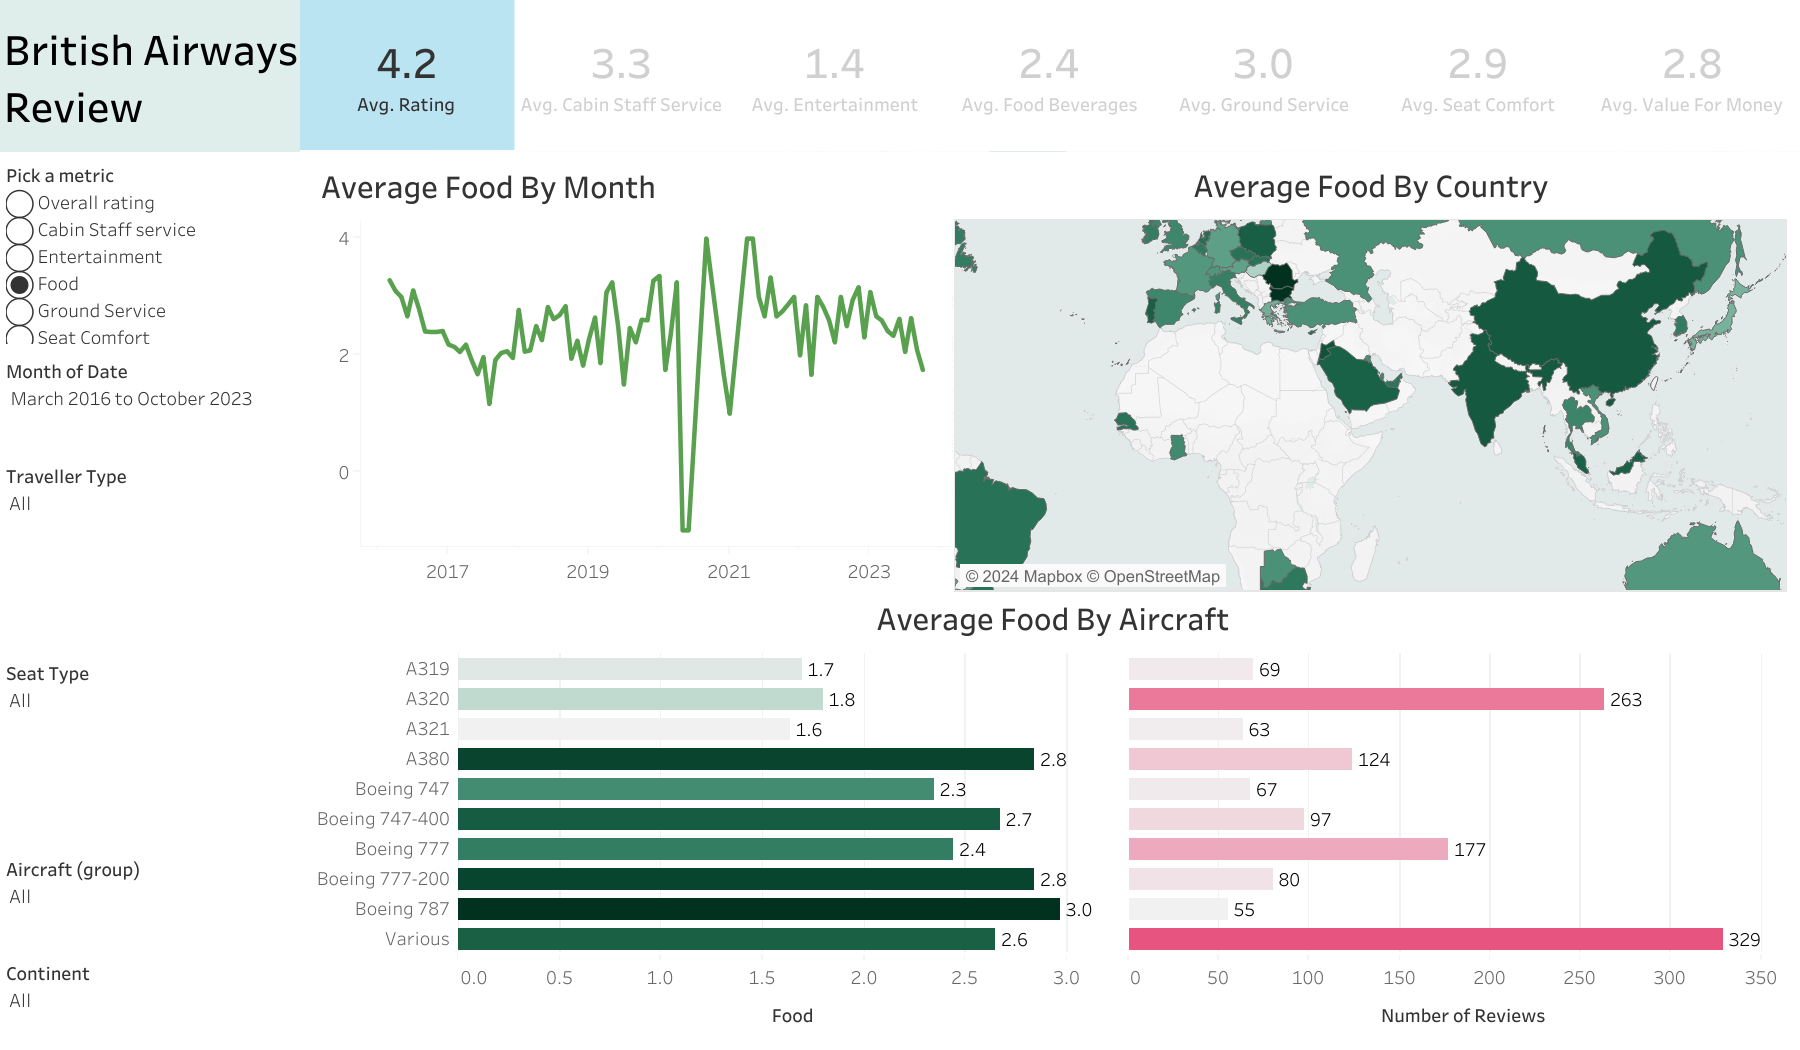

The page's visual inventory and layout, read from the dashboard file:
{"tool":"tableau","page":{"name":"Dashboard 1","canvas":[1200,700],"ordinal":0},"visuals":[{"type":"text","box":[0,0,205,101]},{"type":"worksheet","title":"summary","mark":"Automatic","box":[200,0,1000,100]},{"type":"parameter","param":"[Parameters].[Parameter 1]","box":[0,102,200,131]},{"type":"worksheet","title":"Map","mark":"Automatic","box":[636,103,556,292]},{"type":"worksheet","title":"month","mark":"Automatic","rows":["Calculation_1055534862237753"],"cols":["date"],"box":[210,104,424,290]},{"type":"filter","title":"Map","param":"[federated.0tti8sv0quxe9v17orzv80lkn9sl].[tmn:date:qk]","box":[0,233,200,70]},{"type":"filter","title":"Map","param":"[federated.0tti8sv0quxe9v17orzv80lkn9sl].[none:traveller_type:nk]","box":[0,303,200,131]},{"type":"worksheet","title":"Aircraft","mark":"Automatic","cols":["Calculation_1055534862237753","ba_reviews.csv_E65FFAD831C14D62828CB21B1E208206"],"box":[205,392,994,304]},{"type":"filter","title":"Map","param":"[federated.0tti8sv0quxe9v17orzv80lkn9sl].[none:seat_type:nk]","box":[0,434,200,131]},{"type":"filter","title":"Map","param":"[federated.0tti8sv0quxe9v17orzv80lkn9sl].[Aircraft (group)]","box":[0,565,200,69]},{"type":"filter","title":"Map","param":"[federated.0tti8sv0quxe9v17orzv80lkn9sl].[none:Continent:nk]","box":[0,634,200,56]}]}

Visuals, with their boxes in screenshot pixels (x1, y1, x2, y2), scaled from the page's 1200x700 canvas onto the 1800x1050 screenshot:
text: <box>0,0,308,152</box>
"summary" worksheet: <box>300,0,1799,150</box>
parameter: <box>0,153,300,350</box>
"Map" worksheet: <box>954,154,1788,592</box>
"month" worksheet: <box>315,156,951,591</box>
"Map" filter: <box>0,350,300,454</box>
"Map" filter: <box>0,454,300,651</box>
"Aircraft" worksheet: <box>308,588,1798,1044</box>
"Map" filter: <box>0,651,300,848</box>
"Map" filter: <box>0,848,300,951</box>
"Map" filter: <box>0,951,300,1035</box>
